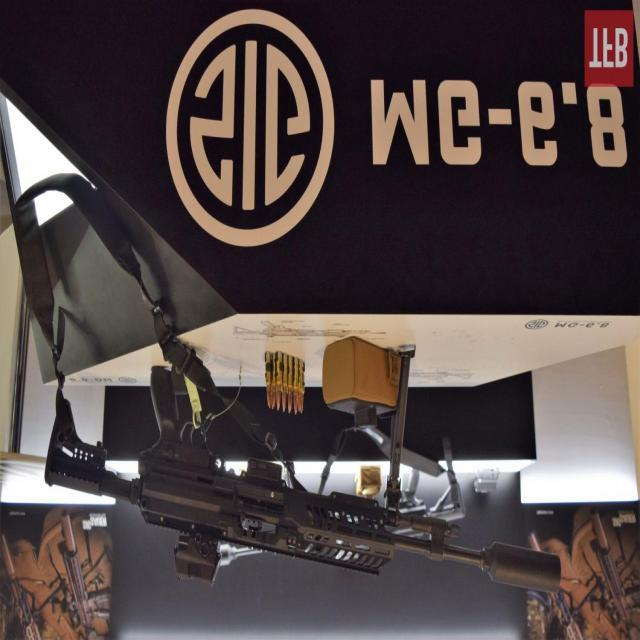weapon: (43, 349, 561, 594)
